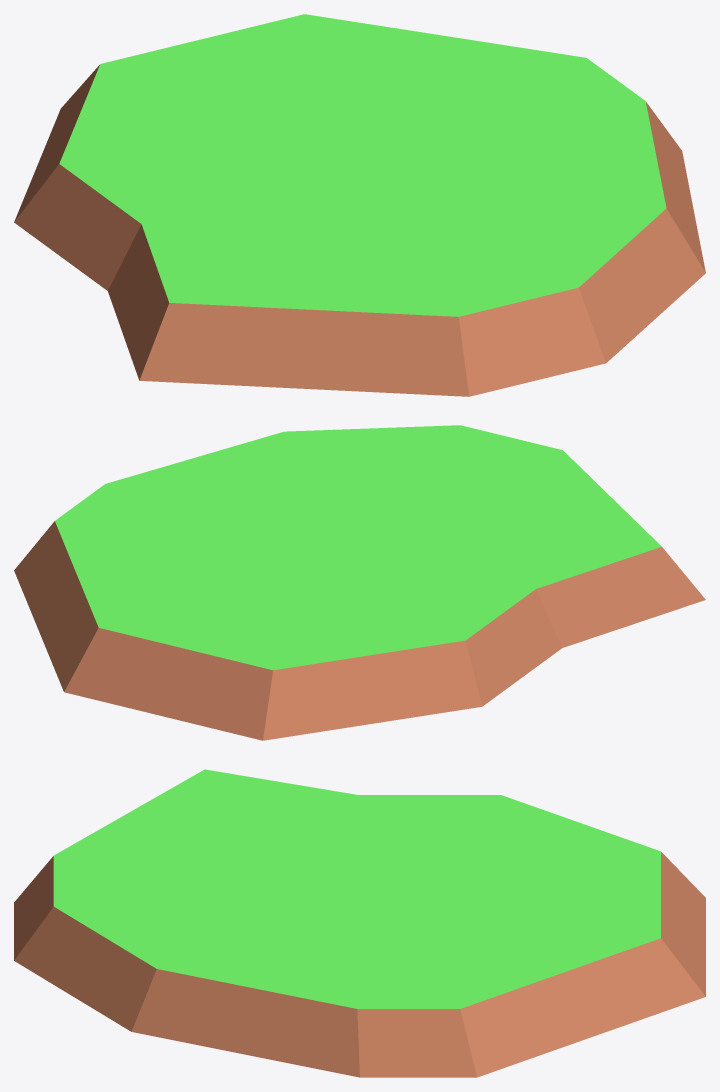
The model's file is Rock005.fbx.
3 renders of one model, top to bottom at view 1: azimuth 30°, elevation 25°; view 2: azimuth 150°, elevation 25°; view 3: azimuth 270°, elevation 25°, orthographic. The views are drawn at different scales.
Visible parts, largest first — view 1: Rock005; view 2: Rock005; view 3: Rock005.
Part boxes in pixels (x1,y1,x2,y2): Rock005: (14,14,705,396); Rock005: (14,425,705,740); Rock005: (14,769,705,1077).
Bounding box in the file's own units: 125 × 11.23 × 134.
